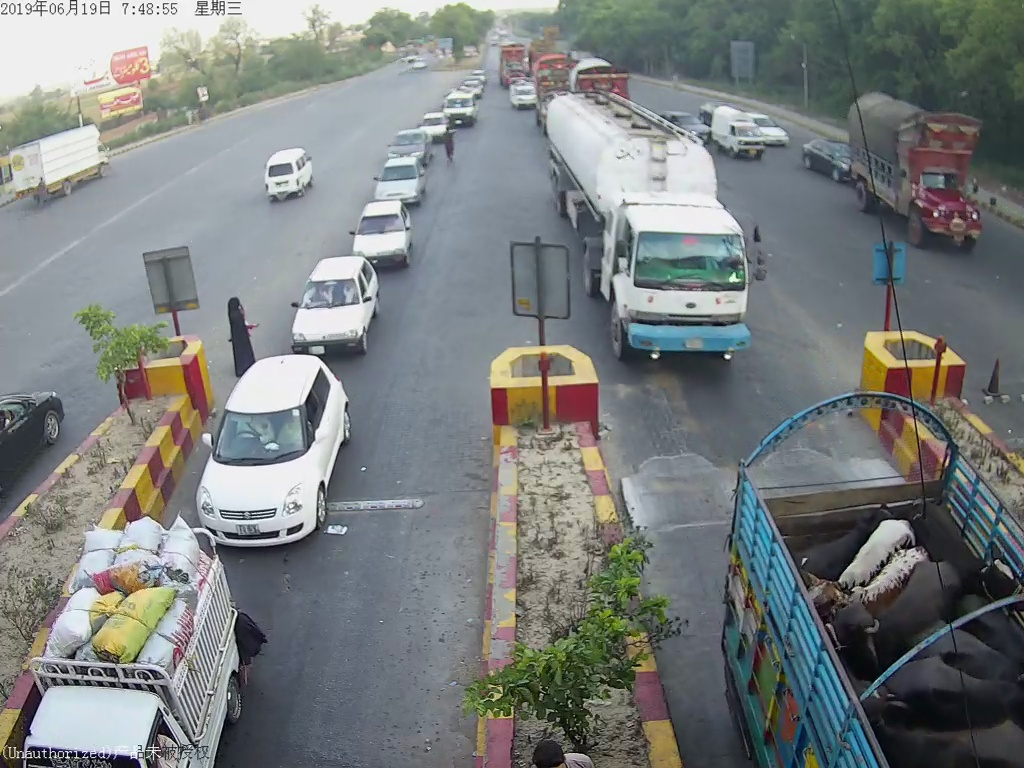Cat-1: (193, 348, 352, 546), (287, 259, 385, 353), (344, 205, 421, 268), (374, 161, 430, 206)
Cat-4: (844, 77, 990, 249)
Cat-5: (548, 88, 762, 362)
